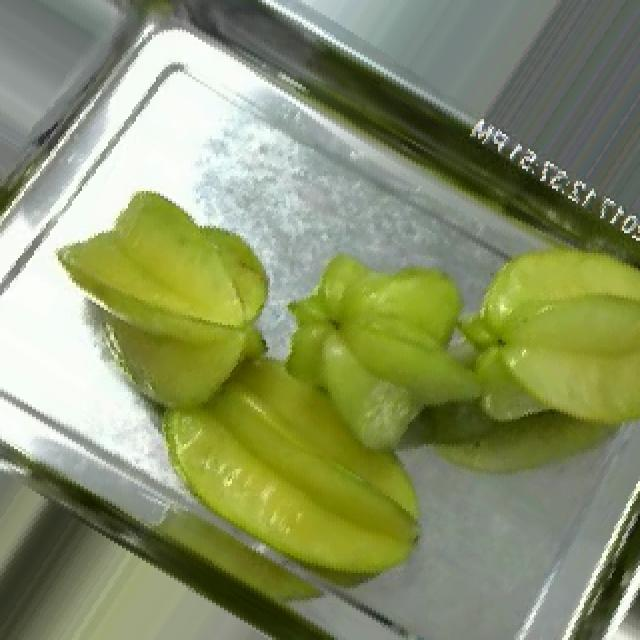fruit: (112, 240, 472, 628), (30, 164, 318, 494), (434, 198, 640, 476)
